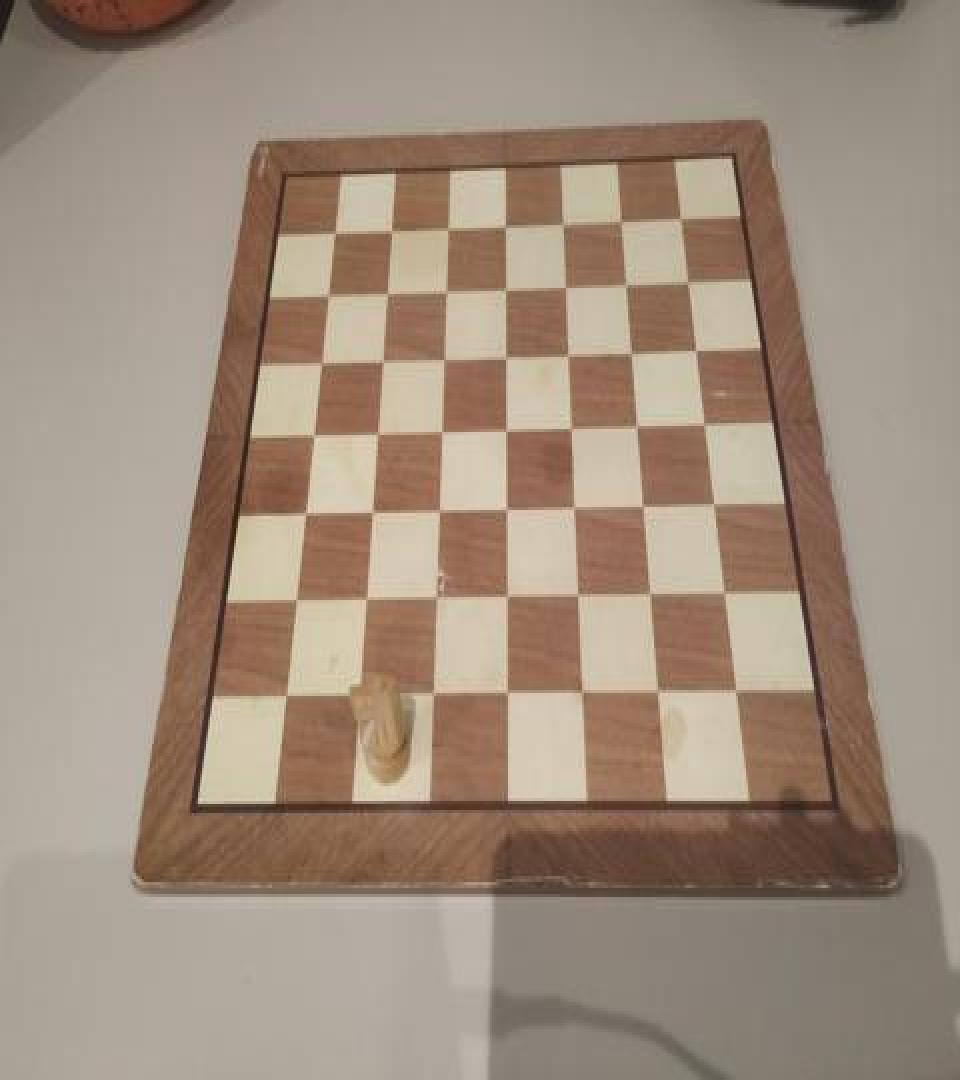xcorner: (275, 681, 295, 711), (348, 680, 368, 710), (423, 680, 443, 710), (498, 678, 518, 708), (573, 678, 593, 708), (650, 678, 670, 708), (728, 676, 748, 706), (285, 584, 305, 614), (355, 584, 375, 614), (426, 582, 446, 612), (642, 579, 662, 609), (716, 578, 736, 608), (294, 496, 314, 526), (361, 495, 381, 525), (428, 494, 448, 524), (497, 492, 517, 522), (565, 490, 585, 520), (635, 489, 655, 519), (705, 489, 725, 519), (303, 417, 323, 447), (367, 416, 387, 446), (431, 414, 451, 444), (496, 412, 516, 442), (562, 410, 582, 440), (628, 408, 648, 438), (695, 406, 715, 436), (310, 344, 330, 374), (372, 342, 392, 372), (433, 340, 453, 370), (496, 338, 516, 368), (559, 336, 579, 366), (622, 334, 642, 364), (686, 332, 706, 362), (317, 276, 337, 306), (376, 274, 396, 304), (436, 273, 456, 303), (495, 270, 515, 300), (556, 268, 576, 298), (616, 266, 636, 296), (678, 264, 698, 294), (324, 214, 344, 244), (381, 213, 401, 243), (438, 210, 458, 240), (495, 208, 515, 238), (553, 206, 573, 236), (611, 202, 631, 232), (670, 201, 690, 231), (497, 581, 517, 610), (569, 581, 589, 610)
